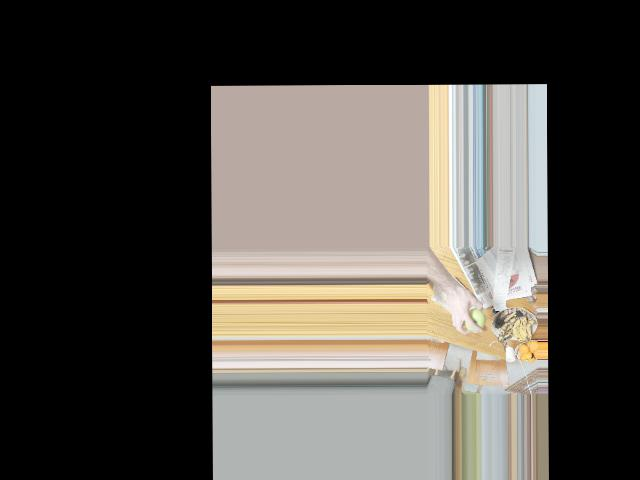apple: (464, 307, 484, 330)
